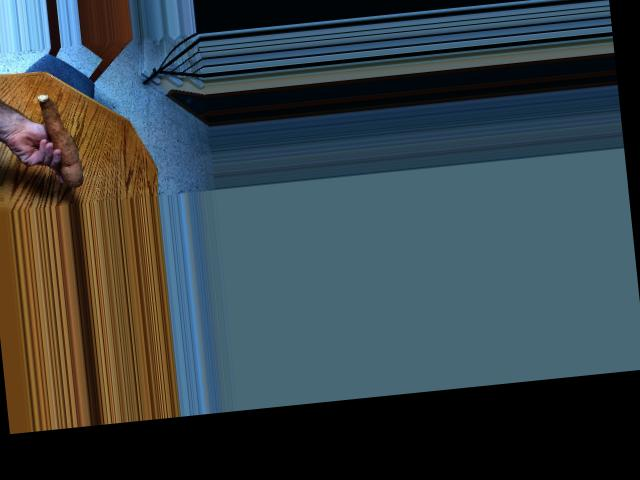sweet_potato: (36, 89, 87, 188)
